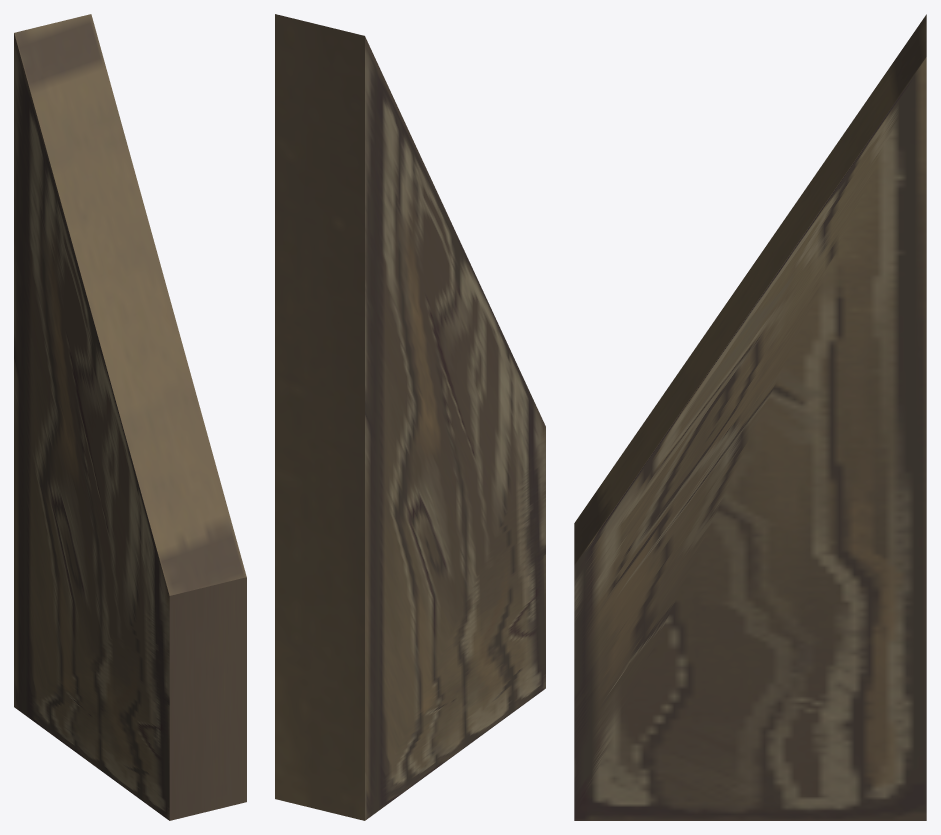
Rendered from prop_town_roof_plank_small.glb.
3 views of the same model, side by side, from view 1: azimuth 30°, elevation 25°; view 2: azimuth 150°, elevation 25°; view 3: azimuth 270°, elevation 25° (orthographic). The views are drawn at different scales.
Visible parts, largest first — view 1: obj_single_plank_roof_small.001; view 2: obj_single_plank_roof_small.001; view 3: obj_single_plank_roof_small.001.
Boxes of the visible parts, bbox=[...] form: obj_single_plank_roof_small.001: bbox=[14, 14, 246, 820]; obj_single_plank_roof_small.001: bbox=[275, 14, 545, 820]; obj_single_plank_roof_small.001: bbox=[574, 14, 926, 820].
Size of the model in its own units: 0.2919 by 2.44 by 1.02.
1 material, 1 textured.
